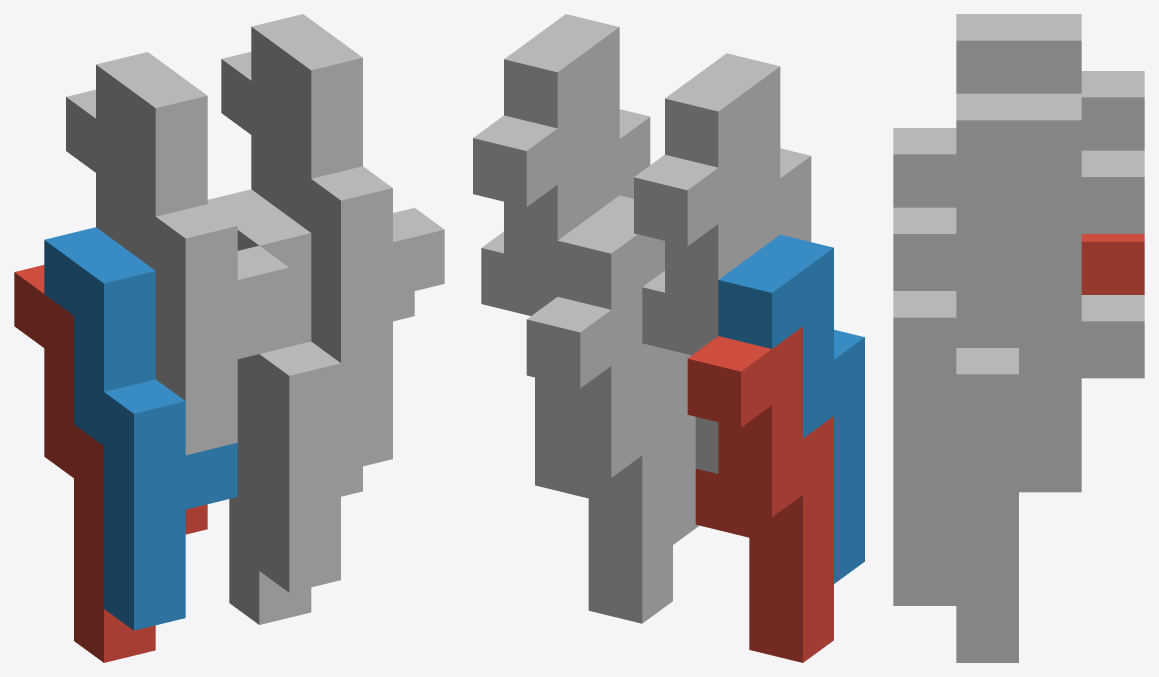
File: tiling.obj
The picture shows the model from 3 angles, left to right: view 1: azimuth 30°, elevation 25°; view 2: azimuth 150°, elevation 25°; view 3: azimuth 270°, elevation 25°; orthographic projection. The views are drawn at different scales.
Parts seen in each view (by area): view 1: copy_1_domain_2, copy_1_domain_4, copy_1_domain_8, copy_1_domain_6, copy_1_domain_1, copy_1_domain_5, copy_1_domain_7, copy_1_domain_3; view 2: copy_1_domain_5, copy_1_domain_1, copy_1_domain_2, copy_1_domain_3, copy_1_domain_7, copy_1_domain_4, copy_1_domain_8, copy_1_domain_6; view 3: copy_1_domain_8, copy_1_domain_7, copy_1_domain_5, copy_1_domain_4, copy_1_domain_6, copy_1_domain_3, copy_1_domain_1.
Boxes of the visible parts, x1,y1,x2,y2 form: copy_1_domain_2: [44, 227, 237, 630]; copy_1_domain_4: [96, 52, 289, 455]; copy_1_domain_8: [251, 14, 444, 417]; copy_1_domain_6: [207, 189, 392, 592]; copy_1_domain_1: [14, 265, 207, 662]; copy_1_domain_5: [229, 392, 362, 624]; copy_1_domain_7: [221, 52, 414, 321]; copy_1_domain_3: [66, 89, 259, 359]; copy_1_domain_5: [526, 287, 672, 623]; copy_1_domain_1: [687, 326, 833, 662]; copy_1_domain_2: [718, 234, 864, 583]; copy_1_domain_3: [634, 145, 749, 473]; copy_1_domain_7: [473, 106, 588, 434]; copy_1_domain_4: [665, 53, 811, 256]; copy_1_domain_8: [504, 14, 650, 217]; copy_1_domain_6: [557, 195, 699, 544]; copy_1_domain_8: [893, 93, 1081, 461]; copy_1_domain_7: [956, 150, 1144, 518]; copy_1_domain_5: [956, 295, 1144, 662]; copy_1_domain_4: [893, 14, 1081, 207]; copy_1_domain_6: [893, 461, 956, 605]; copy_1_domain_3: [1081, 71, 1144, 150]; copy_1_domain_1: [1081, 234, 1144, 294].
Bounding box in the file's own units: 6 × 10 × 4.
